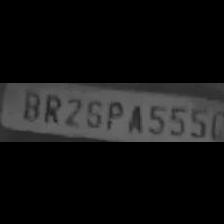2: (62, 93, 82, 125)
5: (144, 100, 166, 134), (188, 102, 208, 138), (166, 102, 188, 134)
8: (20, 89, 40, 121)
A: (124, 100, 144, 134)
P: (104, 97, 124, 131)
R: (39, 91, 61, 123)
S: (84, 92, 104, 128)
